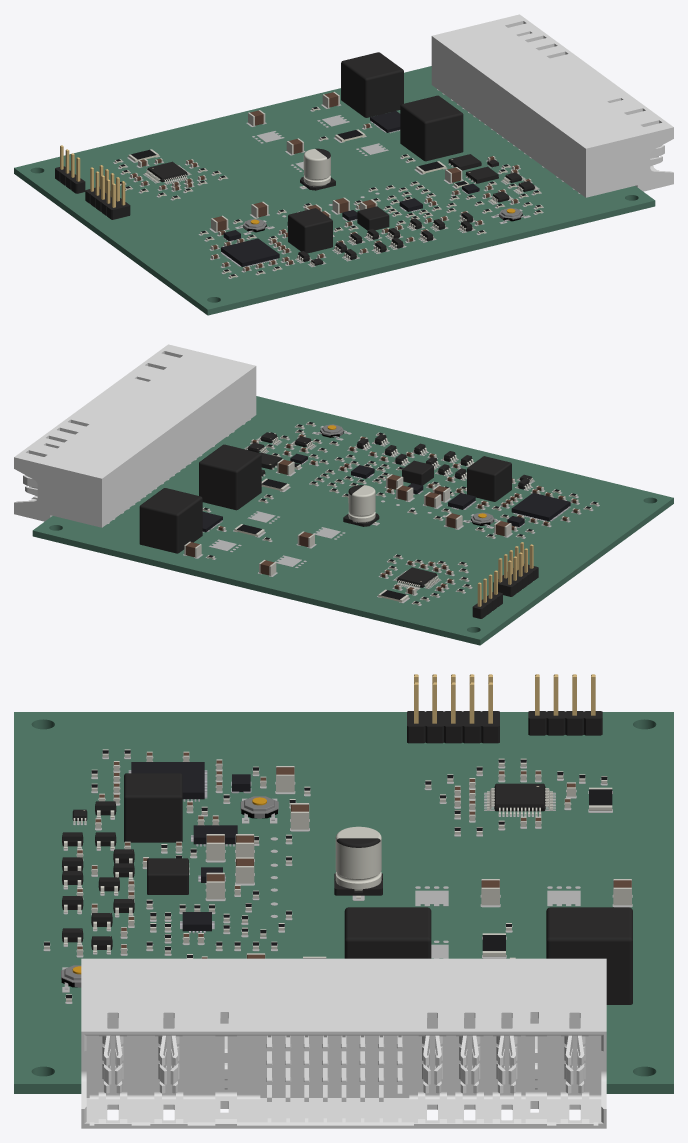
Rendered from board1-rev-a.glb.
3 renders of one model, top to bottom at view 1: azimuth 30°, elevation 25°; view 2: azimuth 150°, elevation 25°; view 3: azimuth 270°, elevation 25°, orthographic. The views are drawn at different scales.
Parts seen in each view (by area): view 1: =>[0:1:1:314], =>[0:1:1:206], =>[0:1:1:117] (×2), =>[0:1:1:313], =>[0:1:1:113], =>[0:1:1:111], body (×2), =>[0:1:1:208], =>[0:1:1:115], =>[0:1:1:13], =>[0:1:1:80]; view 2: =>[0:1:1:314], =>[0:1:1:206], =>[0:1:1:117] (×2), =>[0:1:1:313], =>[0:1:1:113], =>[0:1:1:111], =>[0:1:1:208], body, =>[0:1:1:115], =>[0:1:1:13], =>[0:1:1:80]; view 3: =>[0:1:1:314], =>[0:1:1:206], =>[0:1:1:117] (×2), =>[0:1:1:313], =>[0:1:1:113], =>[0:1:1:111], =>[0:1:1:208], =>[0:1:1:115], body (×2), =>[0:1:1:13], =>[0:1:1:80], =>[0:1:1:33].
Boxes of the visible parts, left/top/right/bottom form: =>[0:1:1:314]: left=14, top=66, right=655, bottom=315; =>[0:1:1:206]: left=431, top=14, right=673, bottom=197; =>[0:1:1:117] (×2): left=341, top=52, right=463, bottom=161; =>[0:1:1:313]: left=113, top=89, right=580, bottom=278; =>[0:1:1:113]: left=288, top=208, right=332, bottom=253; =>[0:1:1:111]: left=85, top=165, right=130, bottom=219; body (×2): left=221, top=111, right=400, bottom=266; =>[0:1:1:208]: left=300, top=148, right=335, bottom=190; =>[0:1:1:115]: left=55, top=145, right=85, bottom=193; =>[0:1:1:13]: left=144, top=161, right=190, bottom=183; =>[0:1:1:80]: left=357, top=206, right=389, bottom=230; =>[0:1:1:314]: left=32, top=396, right=673, bottom=645; =>[0:1:1:206]: left=14, top=344, right=256, bottom=527; =>[0:1:1:117] (×2): left=139, top=444, right=261, bottom=553; =>[0:1:1:313]: left=107, top=419, right=599, bottom=605; =>[0:1:1:113]: left=467, top=456, right=511, bottom=501; =>[0:1:1:111]: left=493, top=542, right=538, bottom=596; =>[0:1:1:208]: left=343, top=485, right=379, bottom=526; body: left=511, top=492, right=570, bottom=521; =>[0:1:1:115]: left=472, top=570, right=502, bottom=618; =>[0:1:1:13]: left=394, top=567, right=440, bottom=589; =>[0:1:1:80]: left=402, top=460, right=433, bottom=485; =>[0:1:1:314]: left=14, top=712, right=673, bottom=1093; =>[0:1:1:206]: left=81, top=958, right=606, bottom=1128; =>[0:1:1:117] (×2): left=344, top=907, right=632, bottom=1004; =>[0:1:1:313]: left=43, top=752, right=632, bottom=1003; =>[0:1:1:113]: left=124, top=773, right=182, bottom=842; =>[0:1:1:111]: left=407, top=674, right=499, bottom=743; =>[0:1:1:208]: left=334, top=826, right=382, bottom=898; =>[0:1:1:115]: left=528, top=674, right=602, bottom=735; body (×2): left=131, top=762, right=237, bottom=844; =>[0:1:1:13]: left=487, top=783, right=552, bottom=815; =>[0:1:1:80]: left=147, top=858, right=188, bottom=894; =>[0:1:1:33]: left=240, top=796, right=278, bottom=820.
Size of the model in its own units: 0.1303 by 0.0156 by 0.09.
